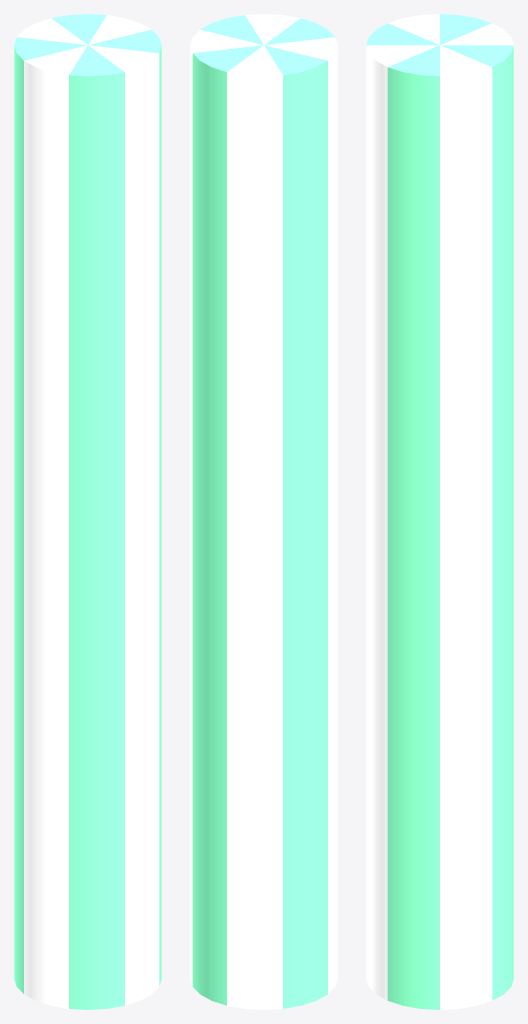
The picture shows the model from 3 angles, left to right: view 1: azimuth 30°, elevation 25°; view 2: azimuth 150°, elevation 25°; view 3: azimuth 270°, elevation 25°; orthographic projection.
Visible parts, largest first — view 1: model_6; view 2: model_6; view 3: model_6.
Part boxes in pixels (x1,y1,x2,y2): model_6: (14, 14, 161, 1009); model_6: (190, 14, 337, 1009); model_6: (366, 14, 513, 1009).
Size of the model in its own units: 0.0401 by 0.28 by 0.0401.
